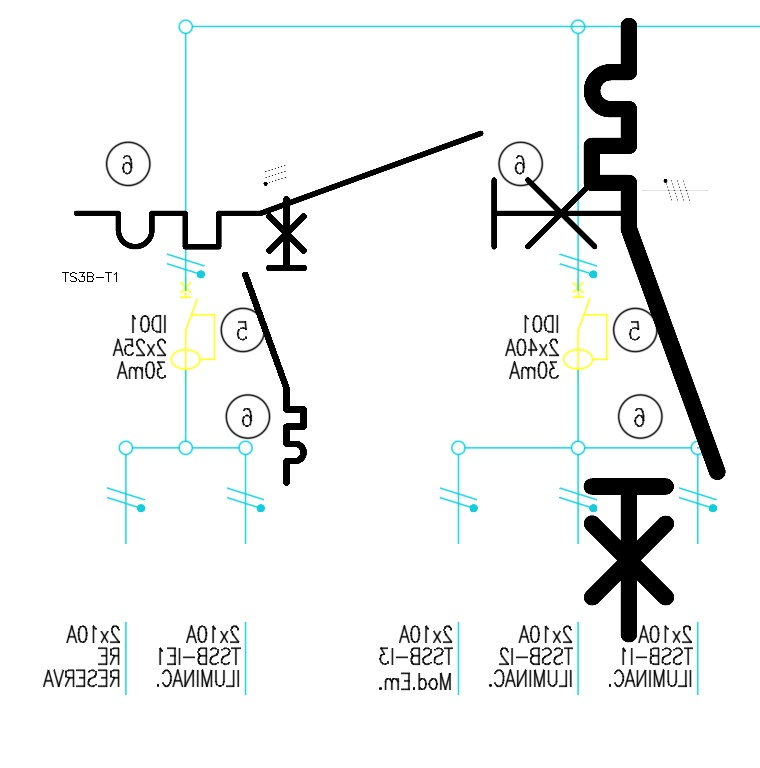interruptor_termomagnetico: (576, 10, 732, 650), (62, 119, 642, 261), (238, 191, 311, 489)
